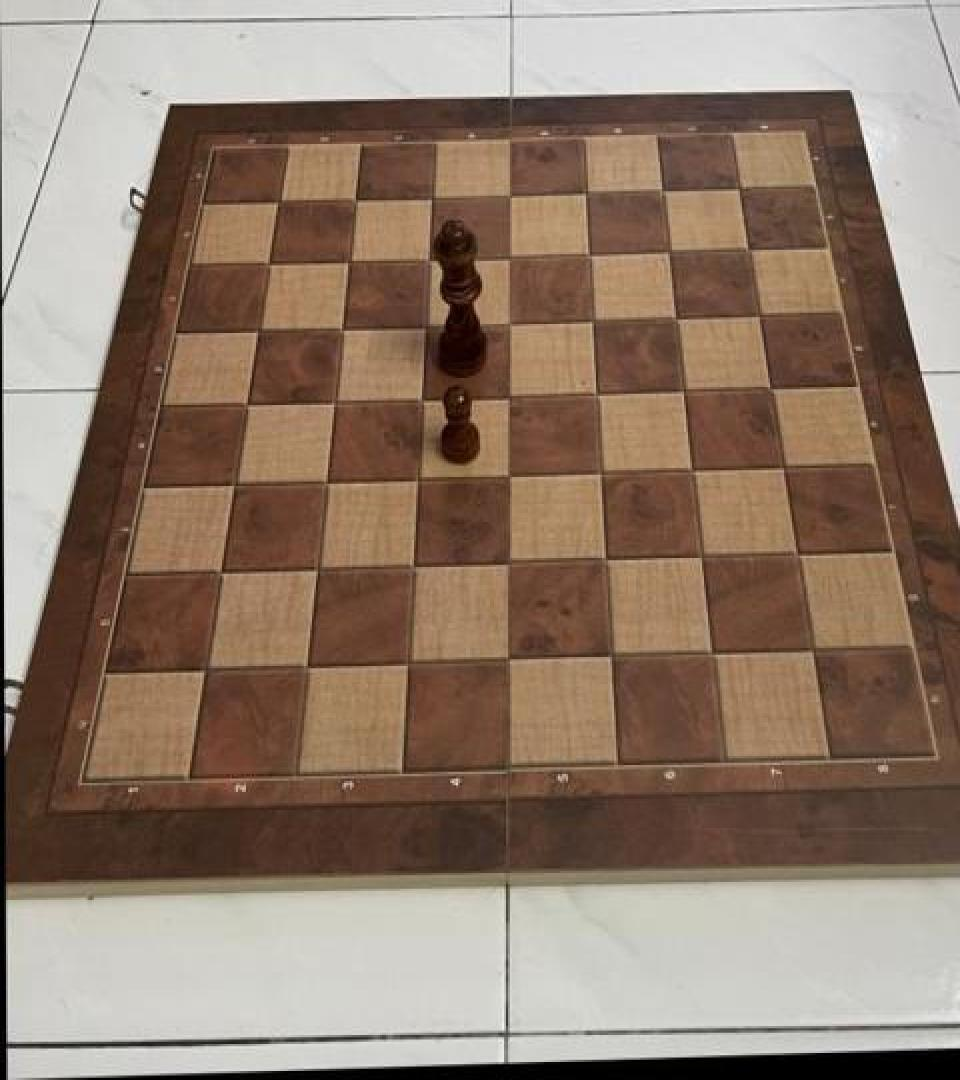xcorner: (564, 172, 600, 213), (487, 174, 523, 215), (256, 182, 292, 223), (729, 228, 765, 269), (487, 236, 523, 277), (655, 298, 691, 339), (571, 300, 607, 341), (320, 308, 356, 349), (663, 370, 699, 411), (313, 380, 349, 421), (580, 452, 616, 493), (305, 460, 341, 501), (213, 462, 249, 503), (778, 534, 814, 575), (488, 542, 524, 583), (200, 550, 236, 591), (793, 631, 829, 672), (387, 641, 423, 682), (719, 168, 755, 208), (642, 170, 678, 210), (410, 177, 446, 217), (333, 179, 369, 219), (648, 232, 684, 272), (568, 234, 604, 274), (407, 239, 443, 279), (327, 241, 363, 281), (247, 243, 283, 283), (740, 296, 776, 336), (487, 303, 523, 343), (404, 305, 440, 345), (236, 311, 272, 351), (751, 368, 787, 408), (575, 374, 611, 414), (488, 376, 524, 416), (400, 378, 436, 418), (225, 384, 261, 424), (764, 448, 800, 488), (672, 450, 708, 490), (488, 456, 524, 496), (396, 458, 432, 498), (681, 538, 717, 578), (584, 540, 620, 580), (392, 546, 428, 586), (296, 548, 332, 588), (691, 635, 727, 675), (590, 637, 626, 677), (488, 639, 524, 679), (286, 645, 322, 685), (185, 647, 221, 687)
